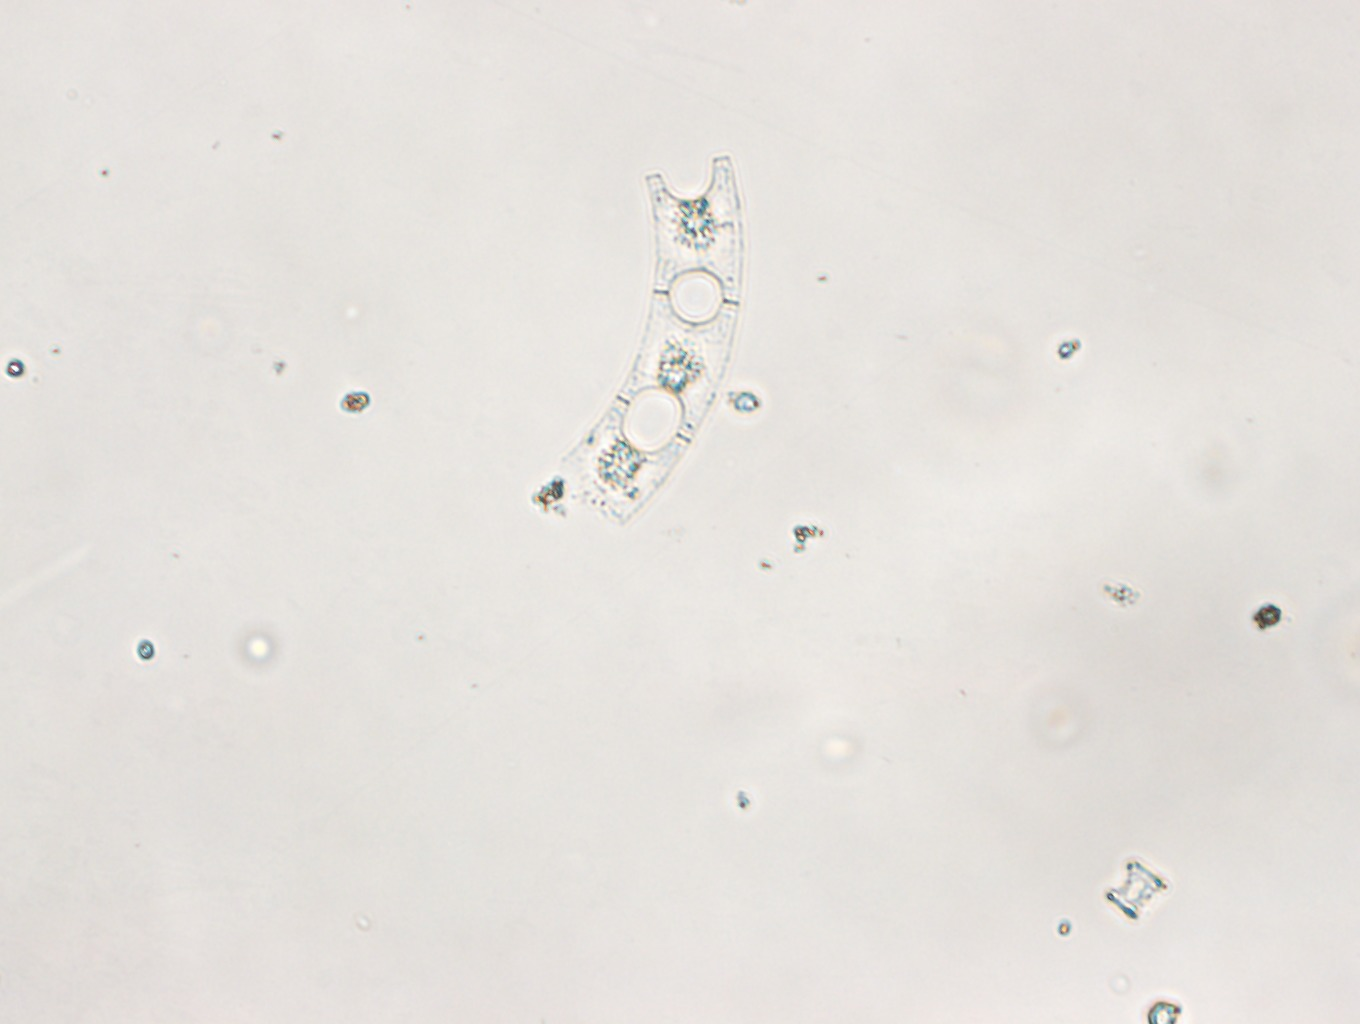eucampia: (568, 147, 762, 520)
